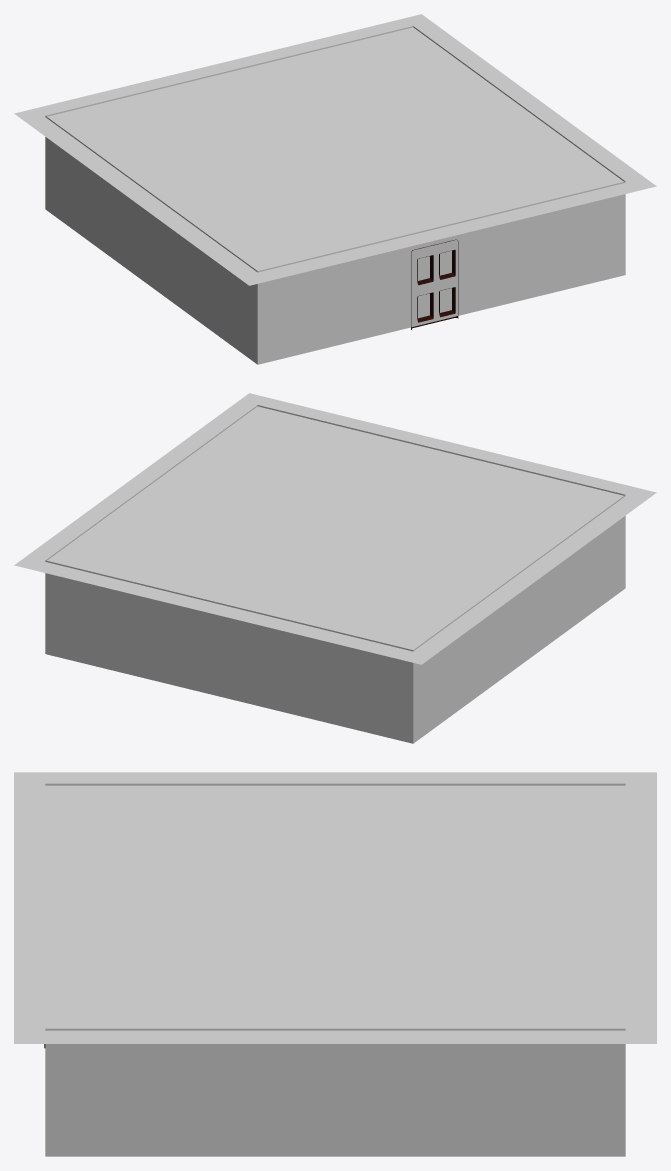
The model's file is esc3.fbx.
3 renders of one model, top to bottom at view 1: azimuth 30°, elevation 25°; view 2: azimuth 150°, elevation 25°; view 3: azimuth 270°, elevation 25°, orthographic. The views are drawn at different scales.
Parts seen in each view (by area): view 1: pPlane2, pPlane1; view 2: pPlane2, pPlane1; view 3: pPlane2, pPlane1.
Boxes of the visible parts, x1,y1,x2,y2 form: pPlane2: [14, 14, 656, 285]; pPlane1: [45, 26, 625, 364]; pPlane2: [14, 393, 656, 664]; pPlane1: [45, 405, 625, 743]; pPlane2: [14, 772, 656, 1043]; pPlane1: [45, 783, 625, 1156].
Bounding box in the file's own units: 26.16 × 5.9 × 26.16.
